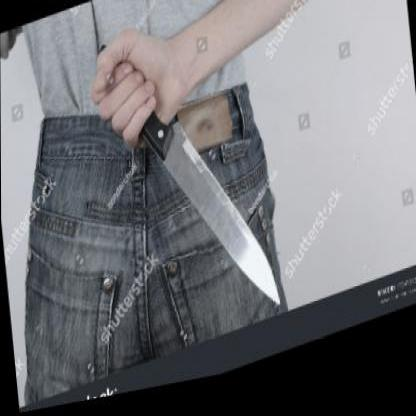knife: (87, 31, 282, 373)
